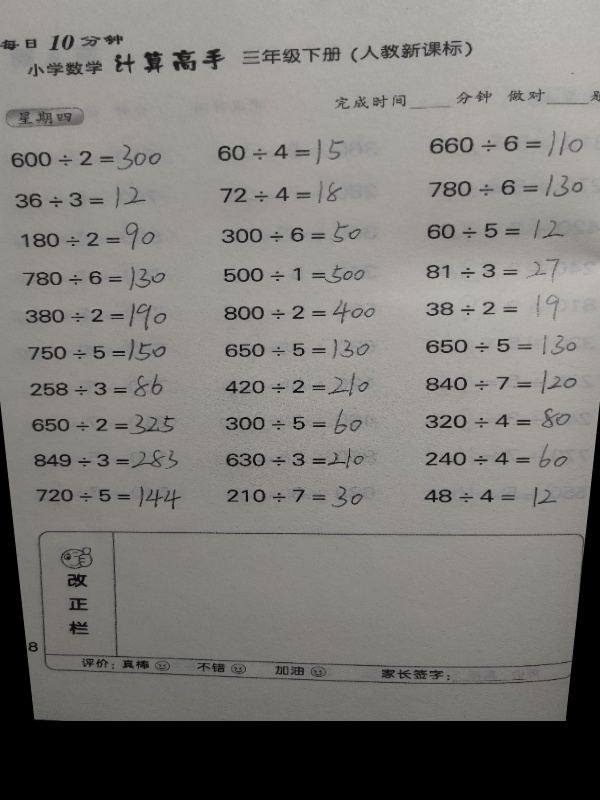equation: (7, 140, 167, 175), (20, 299, 170, 335), (426, 126, 589, 159), (423, 210, 572, 246), (221, 405, 377, 438), (220, 296, 380, 328), (18, 218, 159, 254), (424, 171, 587, 201), (221, 368, 373, 400), (419, 478, 565, 511), (422, 440, 572, 472), (422, 368, 580, 398), (213, 134, 347, 168), (19, 264, 170, 294), (422, 254, 572, 284), (217, 217, 364, 247), (422, 332, 580, 359), (25, 374, 167, 404), (32, 480, 184, 508), (28, 410, 180, 438), (423, 405, 575, 433), (420, 293, 570, 321), (221, 336, 375, 363), (23, 338, 170, 366), (29, 444, 181, 471), (223, 483, 367, 511), (217, 176, 347, 207), (222, 444, 368, 471), (220, 261, 370, 287), (11, 185, 149, 213)
